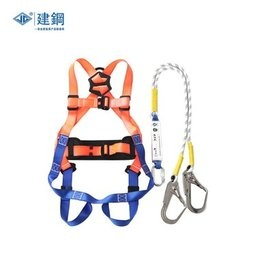safety belt: (36, 48, 221, 232)
